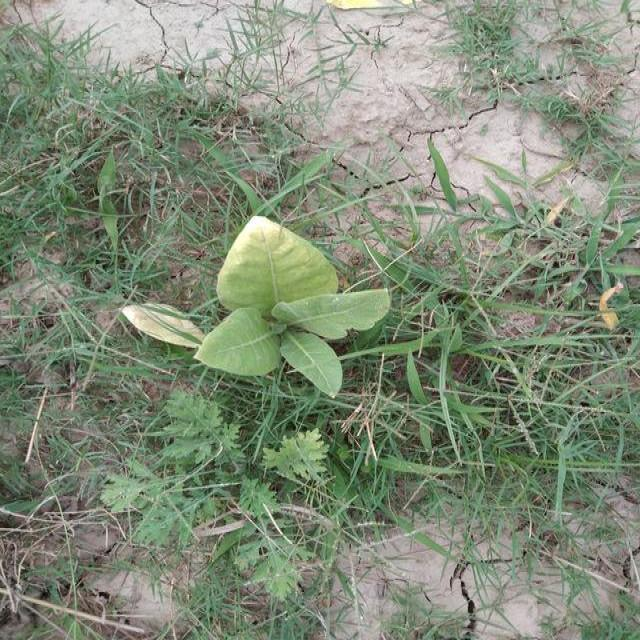crop: (129, 184, 402, 407)
